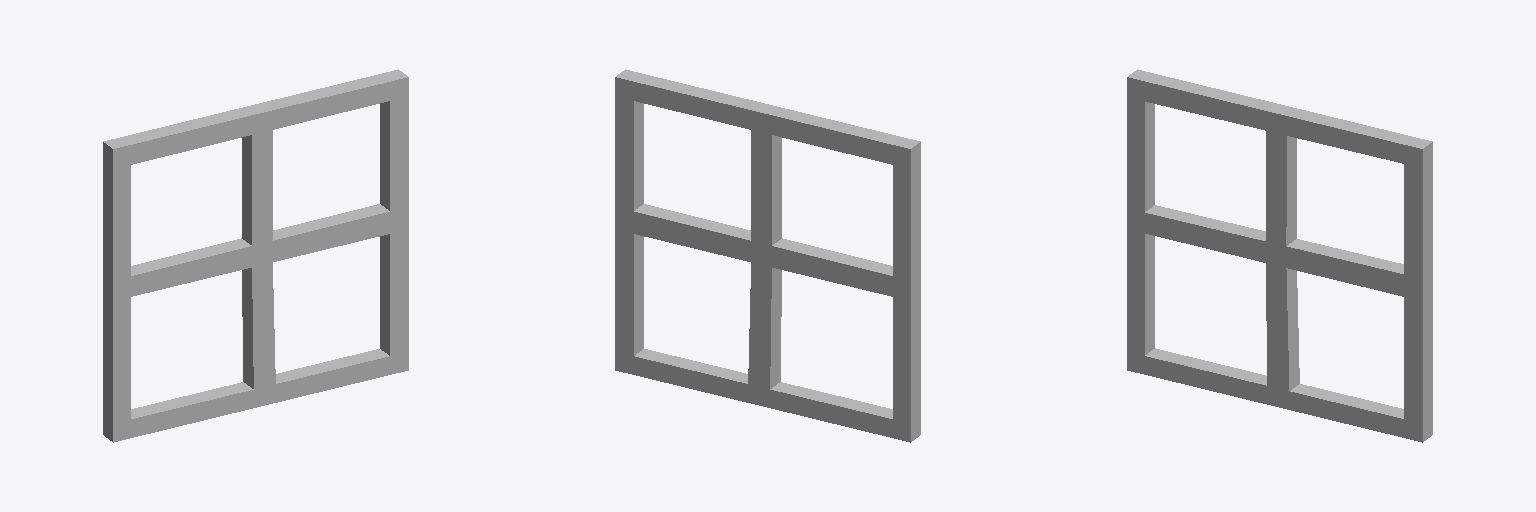
Rendered from Window_Frame.obj.
The picture shows the model from 3 angles: view 1: azimuth 30°, elevation 25°; view 2: azimuth 150°, elevation 25°; view 3: azimuth 330°, elevation 25°; orthographic projection.
Visible parts, largest first — view 1: Window_Frame; view 2: Window_Frame; view 3: Window_Frame.
Part boxes in pixels (x1,y1,x2,y2): Window_Frame: (103, 69, 408, 442); Window_Frame: (615, 69, 920, 442); Window_Frame: (1127, 69, 1432, 442).
Size of the model in its own units: 42.56 by 40.34 by 2.59.